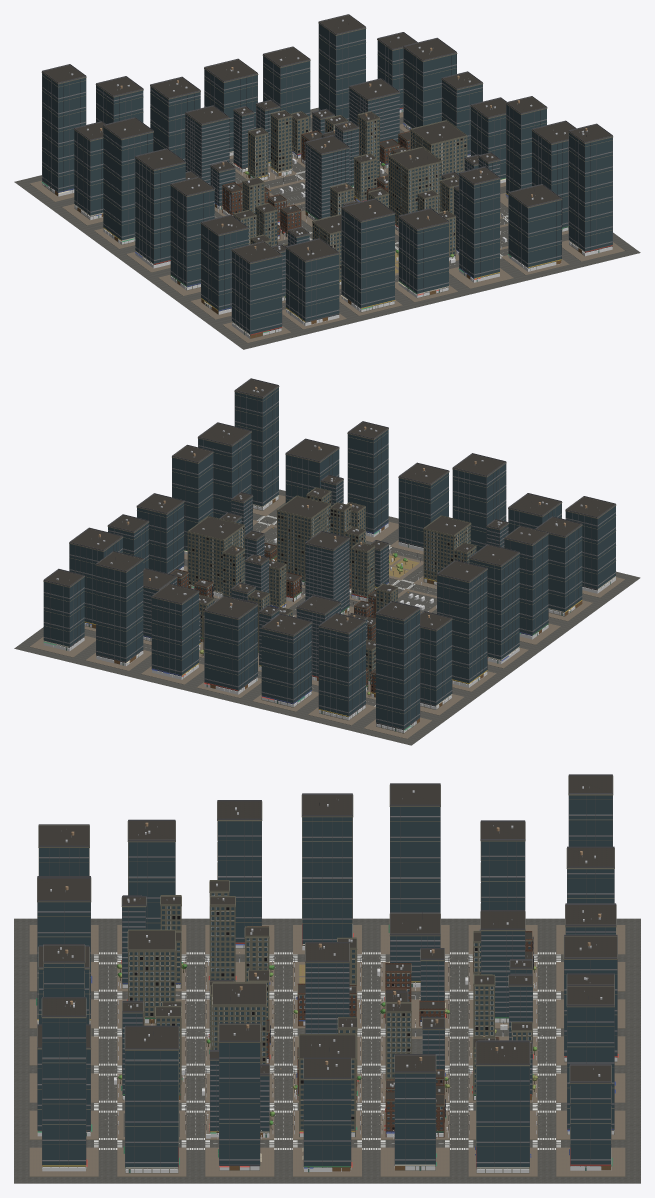
Rendered from map_downtown.glb.
The picture shows the model from 3 angles, top to bottom: view 1: azimuth 30°, elevation 25°; view 2: azimuth 150°, elevation 25°; view 3: azimuth 270°, elevation 25°; orthographic projection. The views are drawn at different scales.
Visible parts, largest first — view 1: Ground_road, Ring_-56_168, Ring_168_168, Ground_sidewalk, Ring_-168_-168, Ring_-168_168, Ring_-168_-56, Ring_56_168, Ring_-168_0, Ring_-112_168, Ring_112_-168, Ring_112_168 (+36 smaller); view 2: Ground_road, Ground_sidewalk, Ring_-168_-168, Ring_112_-168, Ring_-168_-56, Ring_0_-168, Ring_-112_-168, Ring_-56_-168, Ring_168_168, Ring_56_-168, Ring_56_168, Ring_-168_0 (+29 smaller); view 3: Ground_road, Ground_sidewalk, Ring_168_112, Ring_168_168, Ring_-168_0, Ring_168_-112, Ground_markings, Ring_-168_-56, Ring_168_56, Ring_168_0, Ring_-168_56, Ring_168_-56 (+35 smaller).
Boxes of the visible parts, <box> form: Ground_road: <box>14,107,640,349</box>; Ring_-56_168: <box>341,198,395,312</box>; Ring_168_168: <box>568,123,613,255</box>; Ground_sidewalk: <box>30,112,624,342</box>; Ring_-168_-168: <box>41,64,86,196</box>; Ring_-168_168: <box>231,241,282,338</box>; Ring_-168_-56: <box>102,117,153,244</box>; Ring_56_168: <box>458,166,500,281</box>; Ring_-168_0: <box>135,148,185,265</box>; Ring_-112_168: <box>285,238,339,324</box>; Ring_112_-168: <box>318,14,366,121</box>; Ring_112_168: <box>508,184,562,270</box>; Ground_road: <box>14,489,640,745</box>; Ground_sidewalk: <box>30,495,624,738</box>; Ring_-168_-168: <box>375,601,420,733</box>; Ring_112_-168: <box>96,551,143,665</box>; Ring_-168_-56: <box>436,560,487,686</box>; Ring_0_-168: <box>204,595,258,691</box>; Ring_-112_-168: <box>318,613,366,720</box>; Ring_-56_-168: <box>261,613,312,707</box>; Ring_168_168: <box>234,378,279,510</box>; Ring_56_-168: <box>151,583,199,678</box>; Ring_56_168: <box>347,421,388,535</box>; Ring_-168_0: <box>469,544,519,663</box>; Ground_road: <box>14,918,640,1183</box>; Ground_sidewalk: <box>29,925,625,1176</box>; Ring_168_112: <box>123,1025,179,1173</box>; Ring_168_168: <box>41,997,87,1170</box>; Ring_-168_0: <box>301,793,353,945</box>; Ring_168_-112: <box>475,1041,531,1173</box>; Ground_markings: <box>94,952,560,1149</box>; Ring_-168_-56: <box>388,783,440,932</box>; Ring_168_56: <box>218,1023,261,1170</box>; Ring_168_0: <box>302,1057,352,1172</box>; Ring_-168_56: <box>217,800,262,948</box>; Ring_168_-56: <box>394,1054,436,1170</box>.
Bounding box in the file's own units: 400 × 113 × 400.
Materials: 56 (8 with a texture image).
